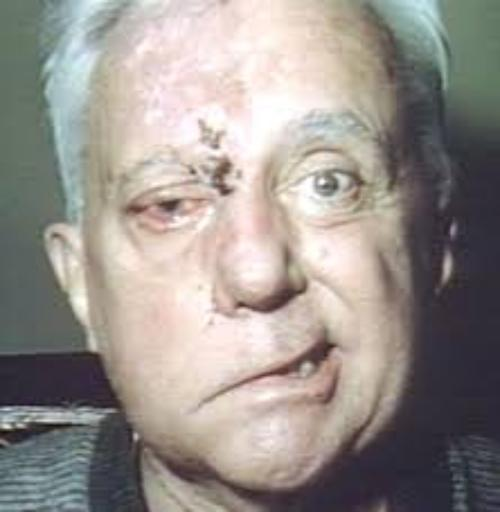left_eye: (292, 168, 366, 202)
left_lip_corner: (311, 331, 347, 372)
right_eye: (129, 195, 209, 224)
right_lip_corner: (207, 376, 253, 406)
